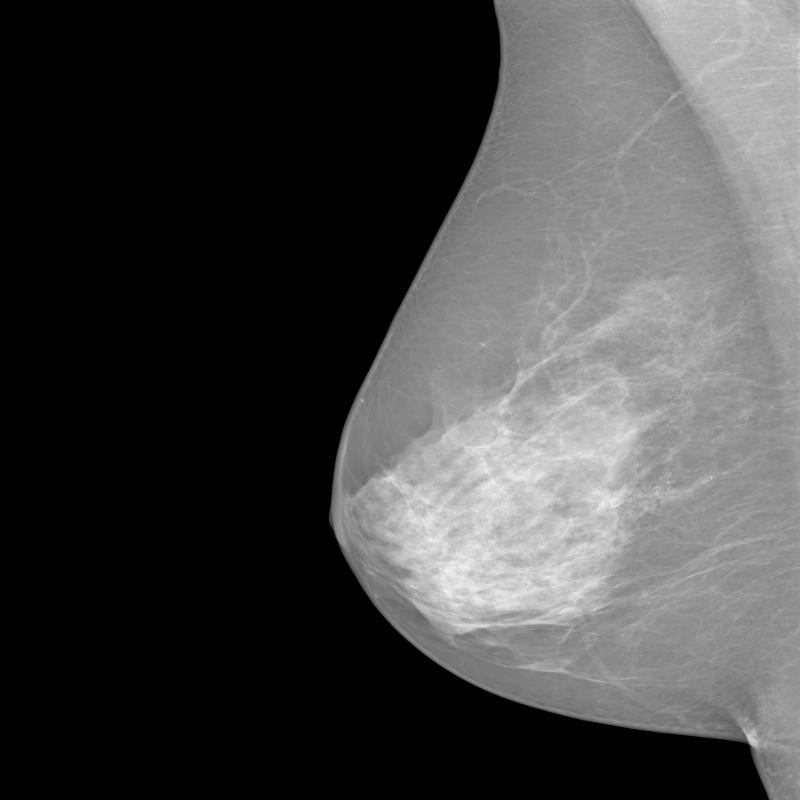No-Mass: (591, 482, 635, 512)
